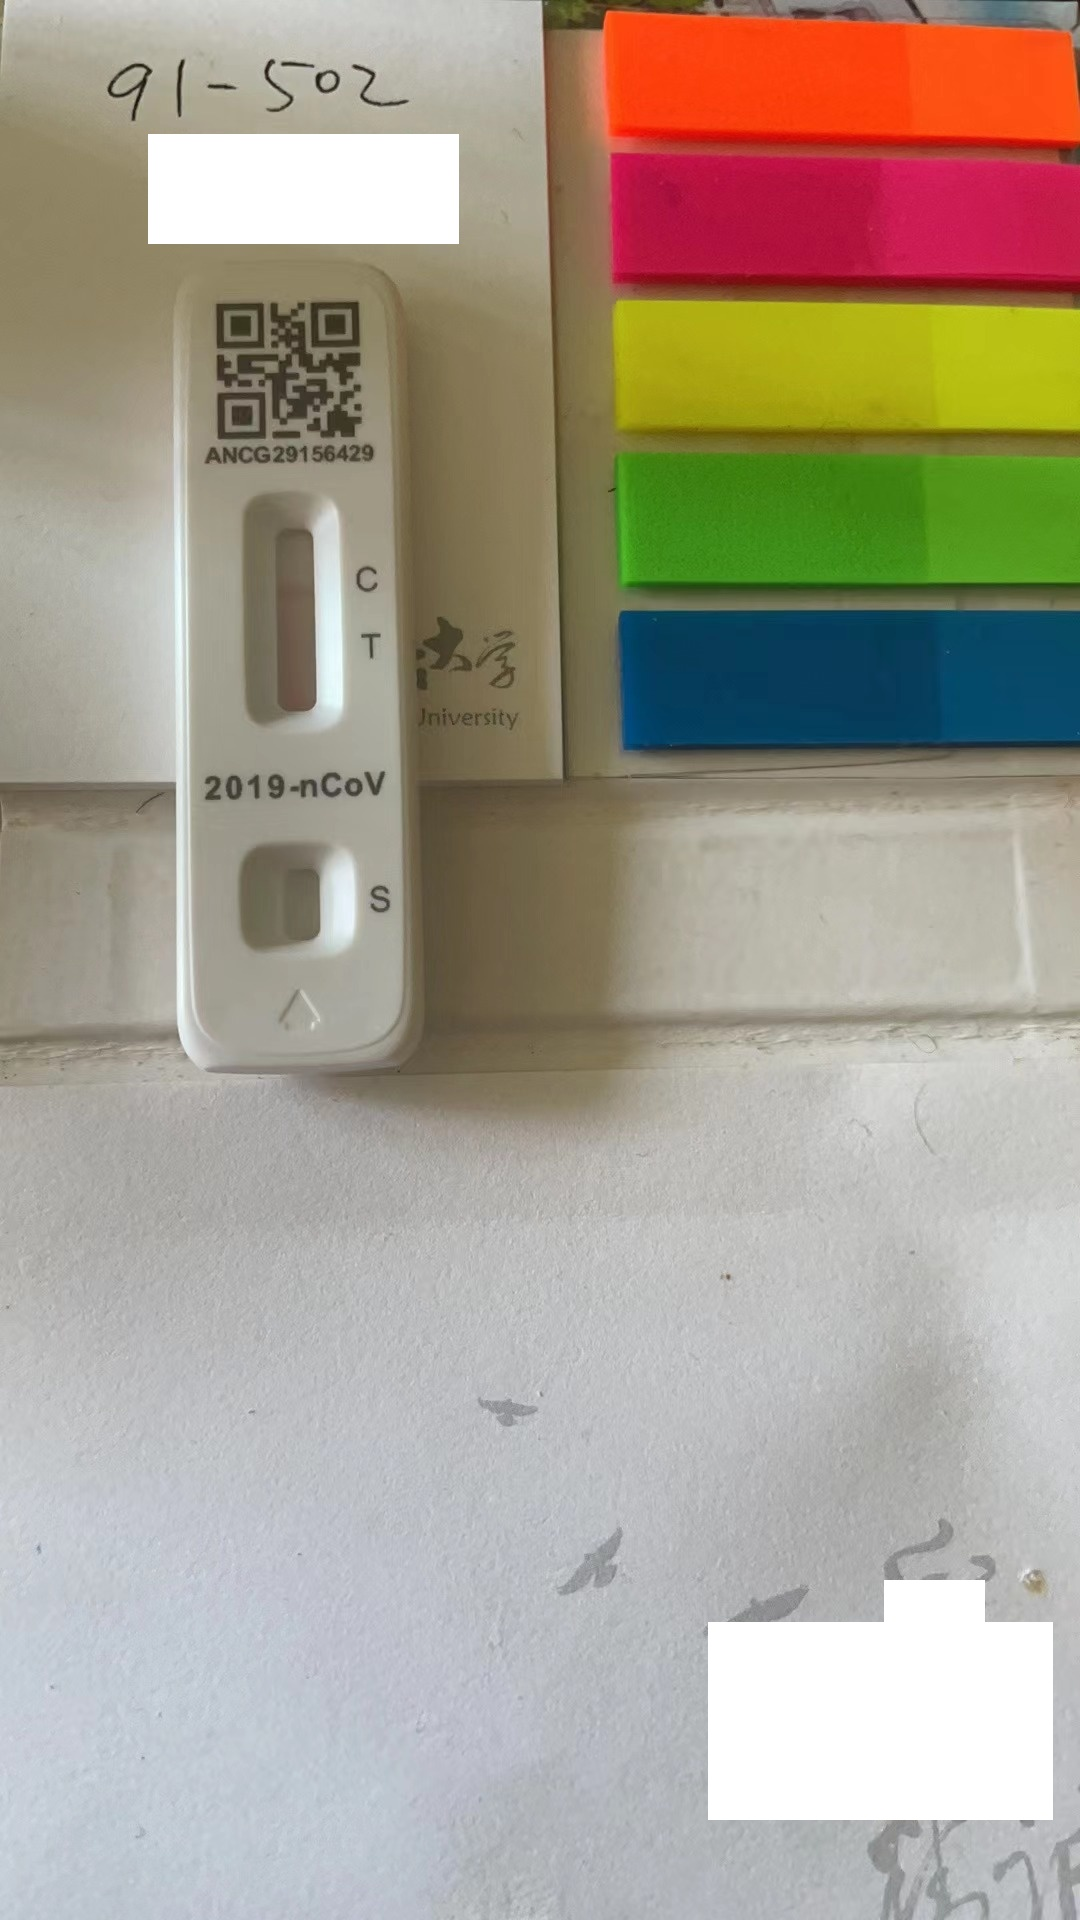negative: (243, 495, 347, 738)
